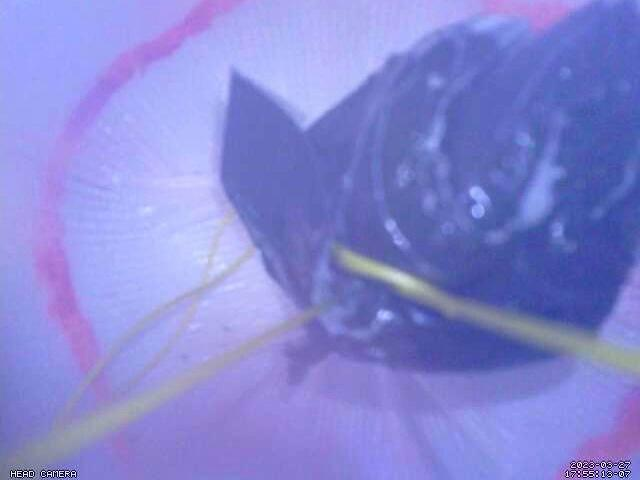head: (29, 0, 640, 479)
